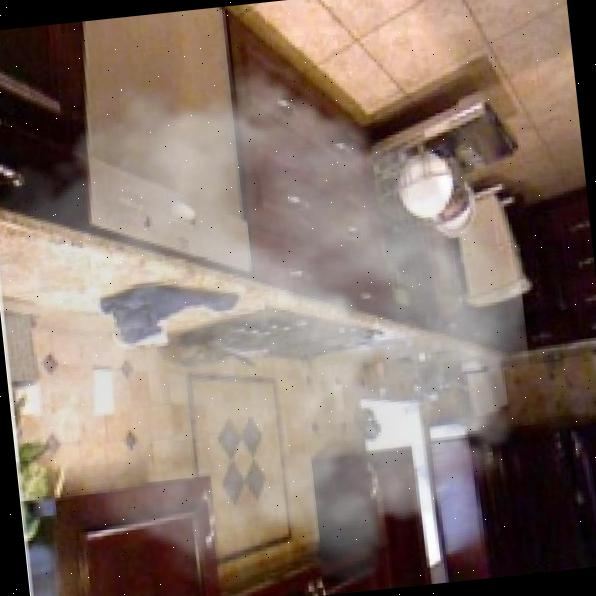smoke: (0, 26, 549, 596)
